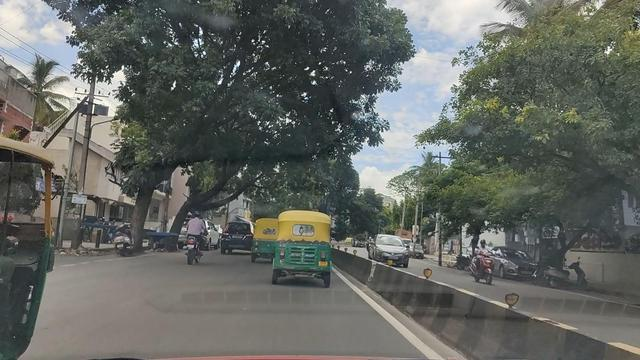LMV: (278, 209, 332, 283), (176, 208, 209, 264), (218, 216, 253, 256), (257, 218, 280, 257)
